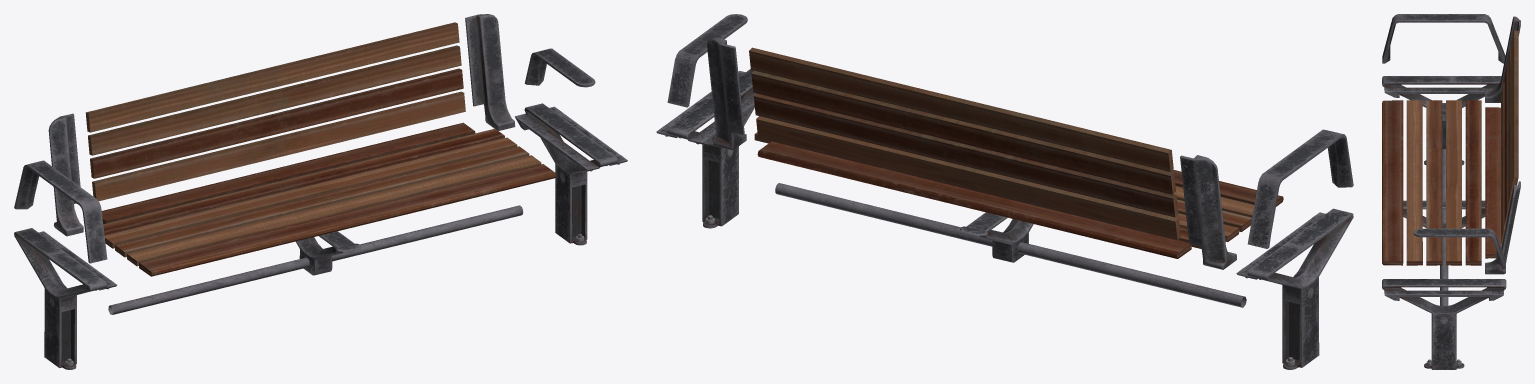
File: modular_street_seating.glb
The picture shows the model from 3 angles, left to right: view 1: azimuth 30°, elevation 25°; view 2: azimuth 150°, elevation 25°; view 3: azimuth 270°, elevation 25°; orthographic projection. The views are drawn at different scales.
Parts seen in each view (by area): view 1: modular_street_seating; view 2: modular_street_seating; view 3: modular_street_seating.
Boxes of the visible parts, bbox=[...] form: modular_street_seating: bbox=[14, 14, 627, 369]; modular_street_seating: bbox=[656, 14, 1353, 369]; modular_street_seating: bbox=[1382, 14, 1520, 369].
Bounding box in the file's own units: 2.45 × 0.8669 × 0.6704.
1 material, 1 textured.
